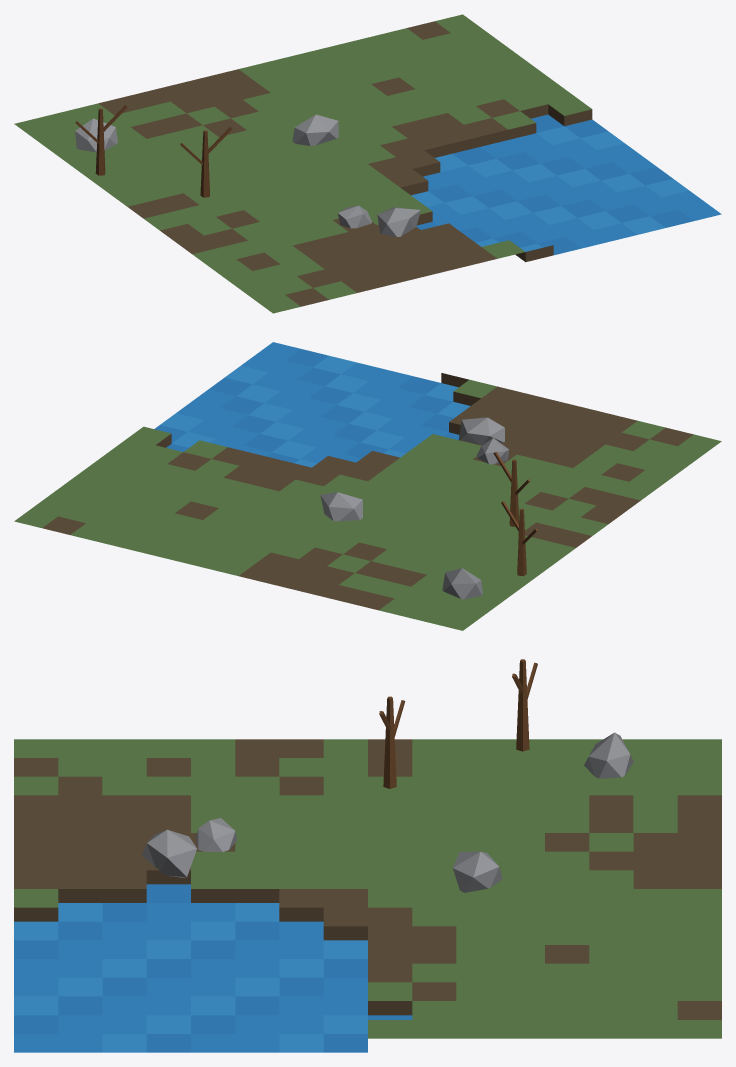
File: chunk_0_16.glb
The picture shows the model from 3 angles, top to bottom: view 1: azimuth 30°, elevation 25°; view 2: azimuth 150°, elevation 25°; view 3: azimuth 270°, elevation 25°; orthographic projection. The views are drawn at different scales.
Parts seen in each view (by area): view 1: chunk_0_16; view 2: chunk_0_16; view 3: chunk_0_16.
Part boxes in pixels (bbox=[...]): chunk_0_16: bbox=[14, 14, 721, 313]; chunk_0_16: bbox=[14, 342, 721, 630]; chunk_0_16: bbox=[14, 659, 721, 1052].
Bounding box in the file's own units: 16.24 × 2.72 × 16.
